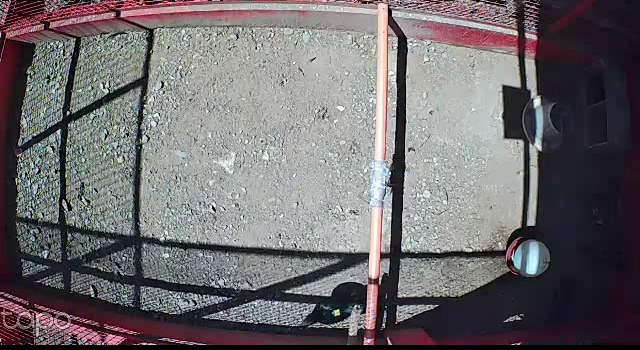Chicken: (299, 287, 363, 333)
Drinker: (505, 237, 553, 279)
Feeder: (521, 93, 574, 157)
Saddle_Color_Yellow: (334, 308, 340, 317)
